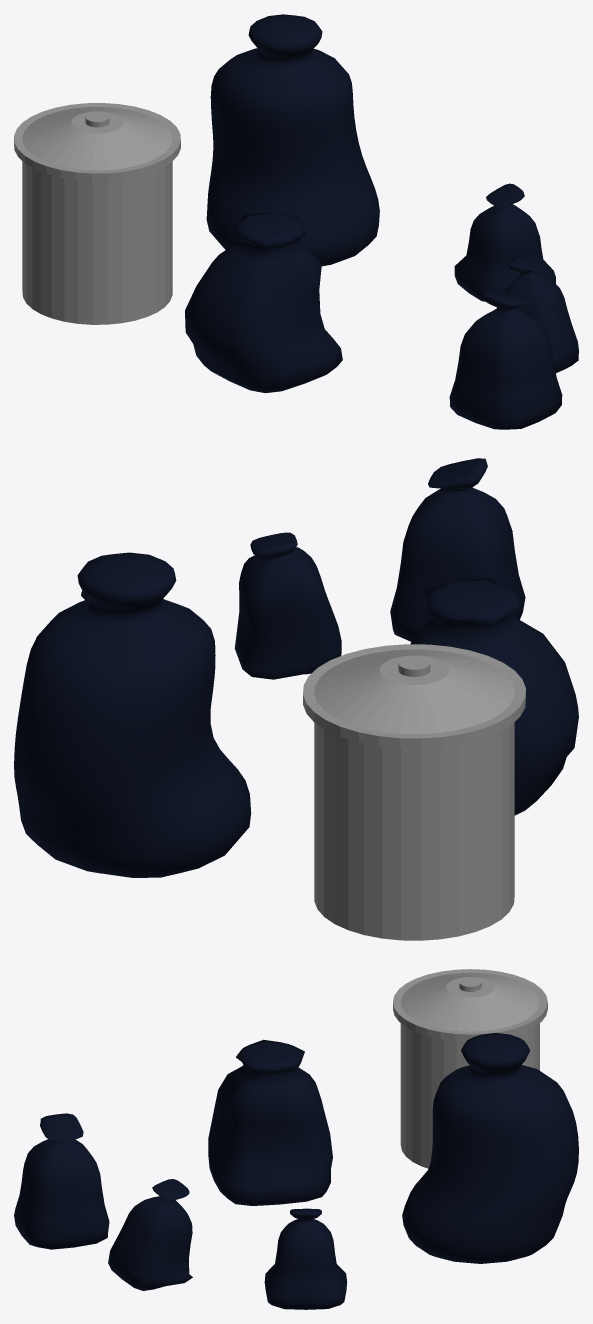
Rendered from Lixos.fbx.
3 renders of one model, top to bottom at view 1: azimuth 30°, elevation 25°; view 2: azimuth 150°, elevation 25°; view 3: azimuth 270°, elevation 25°, orthographic. The views are drawn at different scales.
Visible parts, largest first — view 1: Cylinder, Cube, Cube.003, Cube.001, Cube.004, Cube.002; view 2: Cylinder, Cube, Cube.003, Cube.001, Cube.002; view 3: Cube, Cube.003, Cylinder, Cube.001, Cube.002, Cube.004.
Part boxes in pixels (<box>): Cylinder: <box>14,103,180,324</box>; Cube: <box>206,14,379,266</box>; Cube.003: <box>185,213,342,393</box>; Cube.001: <box>449,291,562,429</box>; Cube.004: <box>454,183,555,301</box>; Cube.002: <box>504,257,578,372</box>; Cylinder: <box>303,644,525,940</box>; Cube: <box>14,552,251,877</box>; Cube.003: <box>410,578,578,815</box>; Cube.001: <box>390,458,525,641</box>; Cube.002: <box>234,532,341,679</box>; Cube: <box>402,1033,578,1263</box>; Cube.003: <box>208,1039,332,1205</box>; Cylinder: <box>393,969,547,1168</box>; Cube.001: <box>14,1113,109,1249</box>; Cube.002: <box>108,1179,192,1290</box>; Cube.004: <box>264,1208,347,1309</box>.
Bounding box in the file's own units: 661 × 333 × 811.
